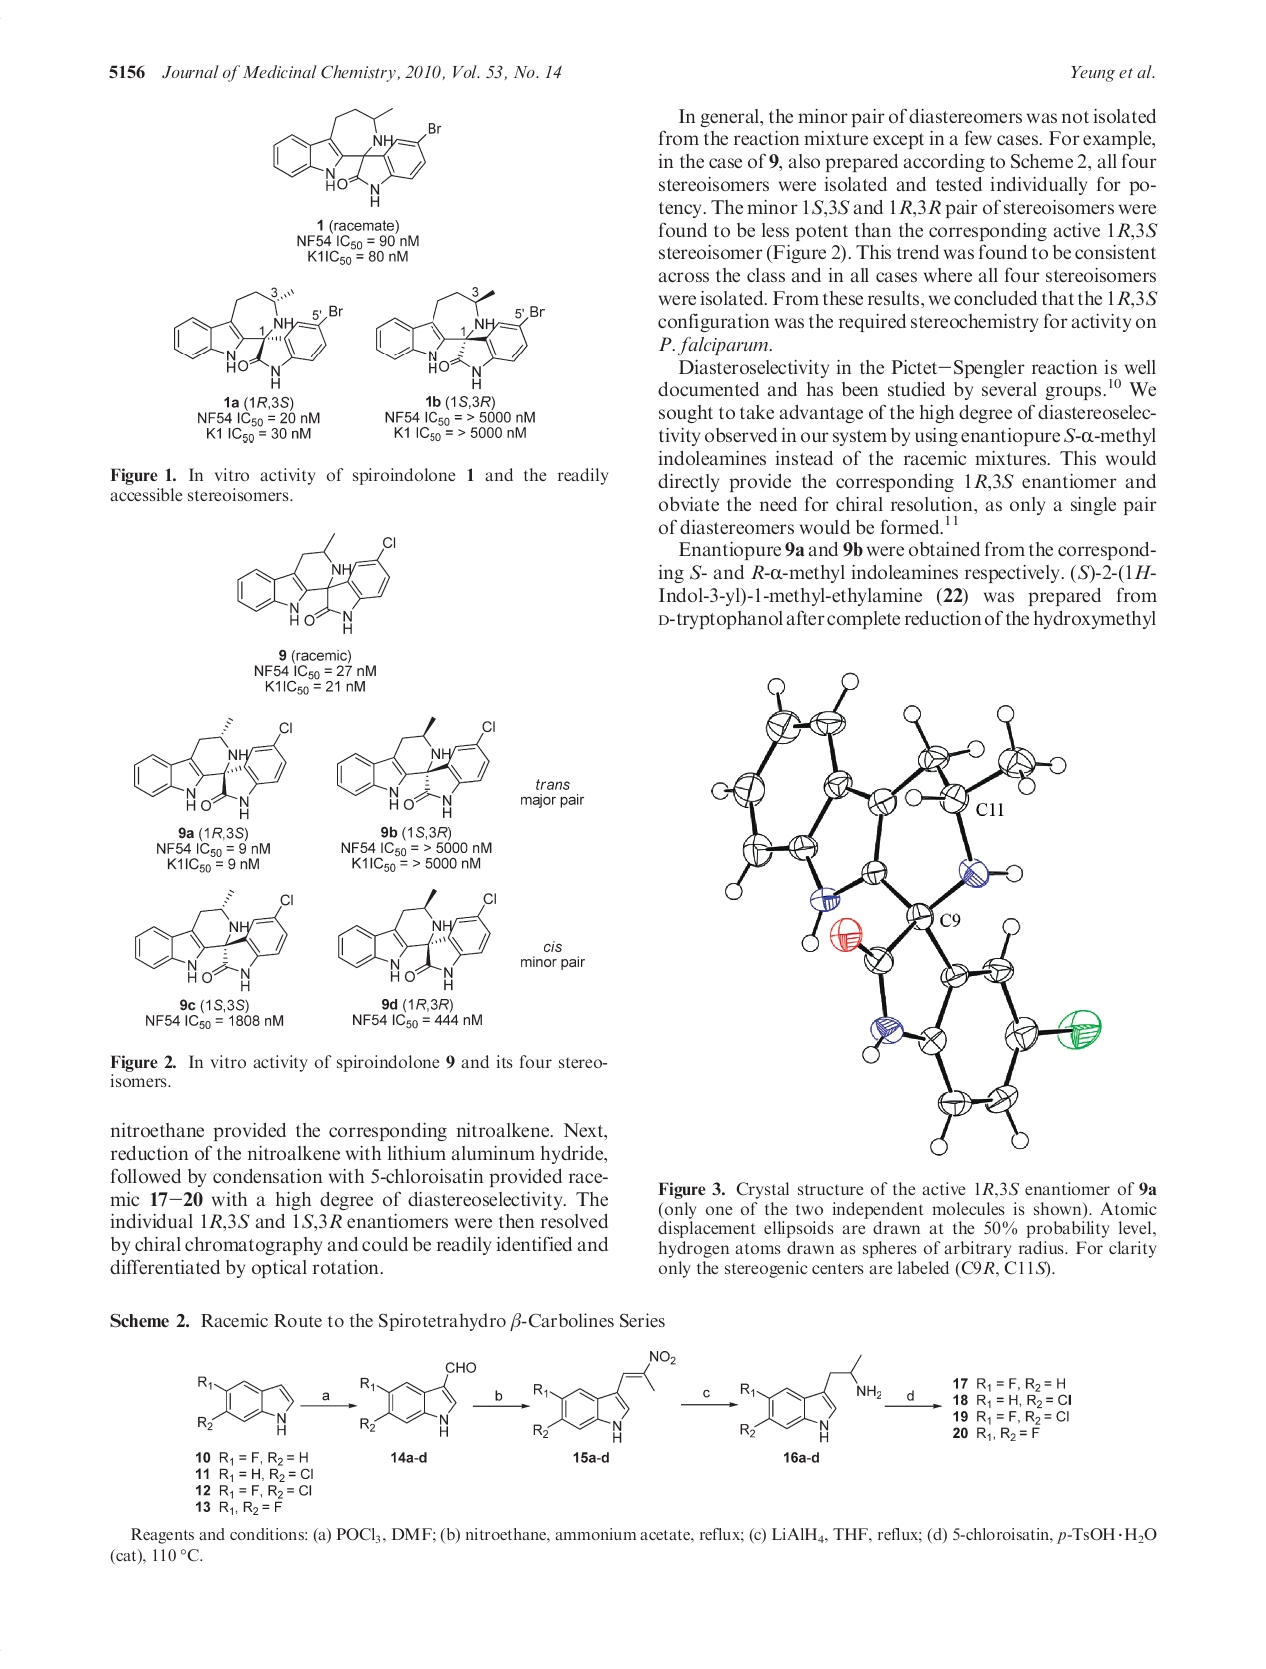exist_molecular: (372, 287, 547, 394), (170, 285, 343, 390), (273, 105, 442, 210), (235, 528, 402, 634), (335, 888, 500, 992), (334, 713, 488, 821), (134, 718, 295, 821), (134, 891, 291, 993), (532, 1347, 677, 1443), (739, 1352, 880, 1444), (359, 1358, 475, 1438), (191, 1372, 299, 1438)
